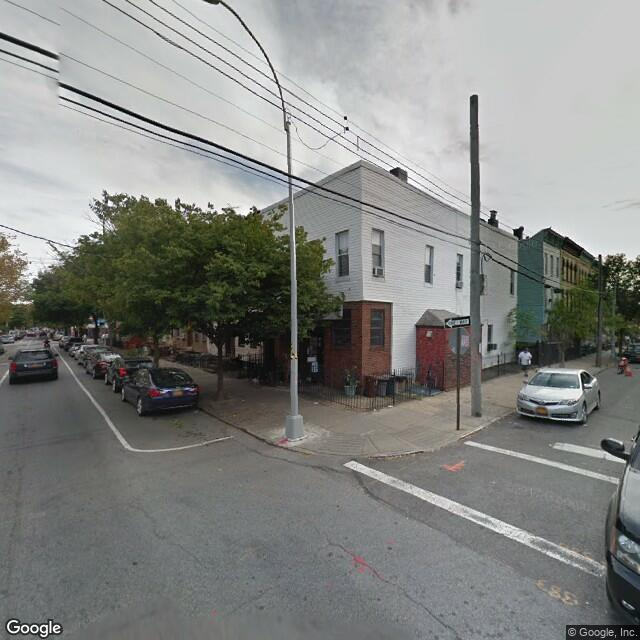litter: (381, 400, 398, 412), (302, 399, 328, 406)
